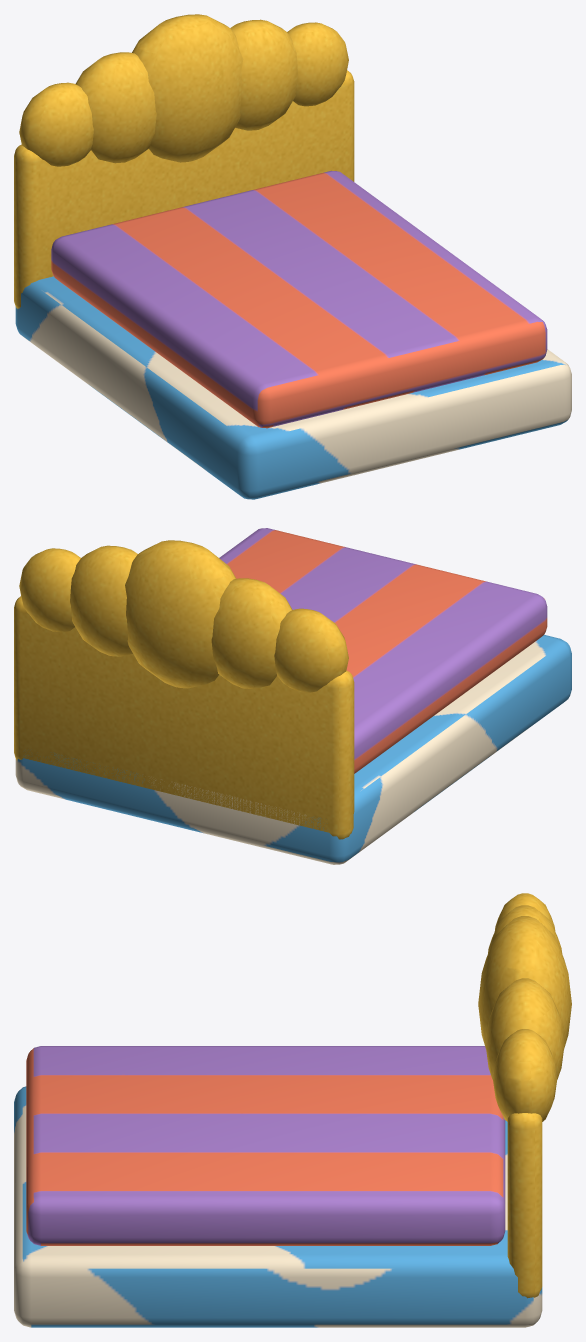
Rendered from pastel_bed_02.glb.
The picture shows the model from 3 angles, top to bottom: view 1: azimuth 30°, elevation 25°; view 2: azimuth 150°, elevation 25°; view 3: azimuth 270°, elevation 25°; orthographic projection. The views are drawn at different scales.
Visible parts, largest first — view 1: pastel_bed_02; view 2: pastel_bed_02; view 3: pastel_bed_02.
Boxes of the visible parts, x1,y1,x2,y2 form: pastel_bed_02: (14, 14, 571, 499); pastel_bed_02: (14, 528, 571, 864); pastel_bed_02: (14, 893, 571, 1327).
Bounding box in the file's own units: 1.76 × 1.42 × 2.26.
3 materials, 3 textured.
